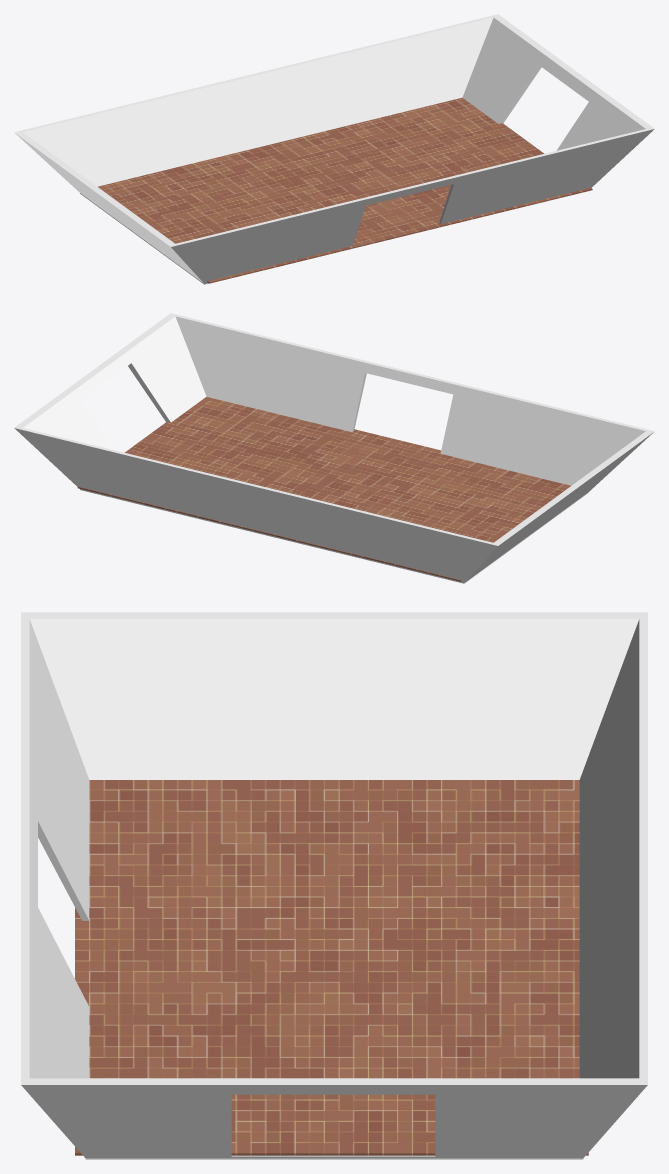
The model's file is TopLeft.fbx.
3 views of the same model, one above another, from view 1: azimuth 30°, elevation 25°; view 2: azimuth 150°, elevation 25°; view 3: azimuth 270°, elevation 25° (orthographic). The views are drawn at different scales.
Parts seen in each view (by area): view 1: StartRoom, Piso1; view 2: StartRoom, Piso1; view 3: StartRoom, Piso1.
Part boxes in pixels (x1,y1,x2,y2): StartRoom: (14, 14, 654, 284); Piso1: (98, 97, 592, 283); StartRoom: (14, 313, 654, 583); Piso1: (77, 396, 570, 581); StartRoom: (21, 612, 647, 1159); Piso1: (75, 780, 588, 1155).
Bounding box in the file's own units: 4100 × 500 × 2300.
